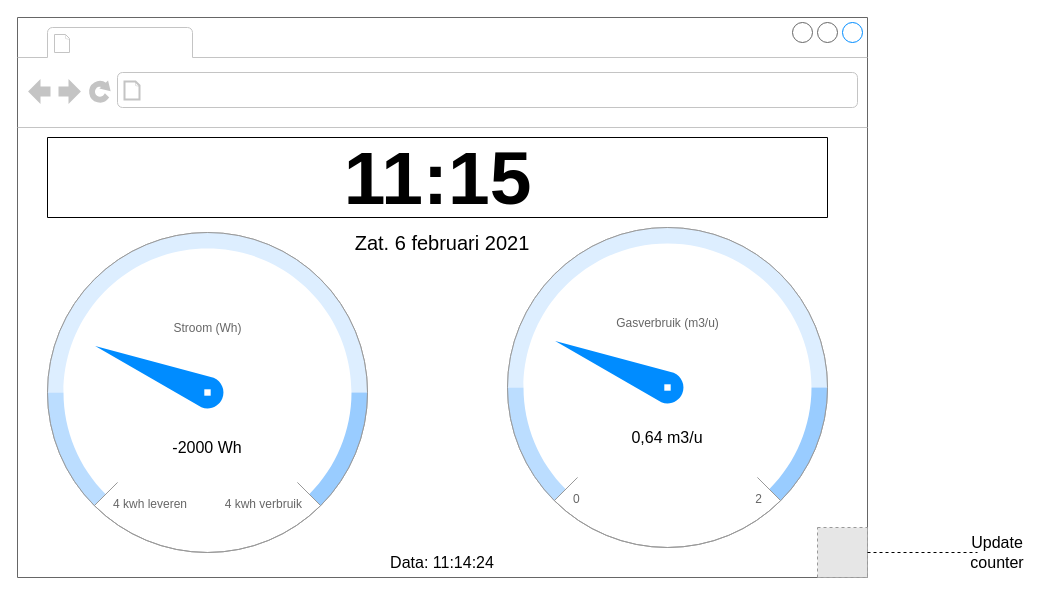
Image size: 1041x595. Some labels were removed from this diagram. Grey dashed boxes stand in for pictures. The shapes that lost their labels are listed below. From the top down, each one's centre as x and y in pixels, then its label:
point 132,42: Page 1
point 272,90: localhost:8080
